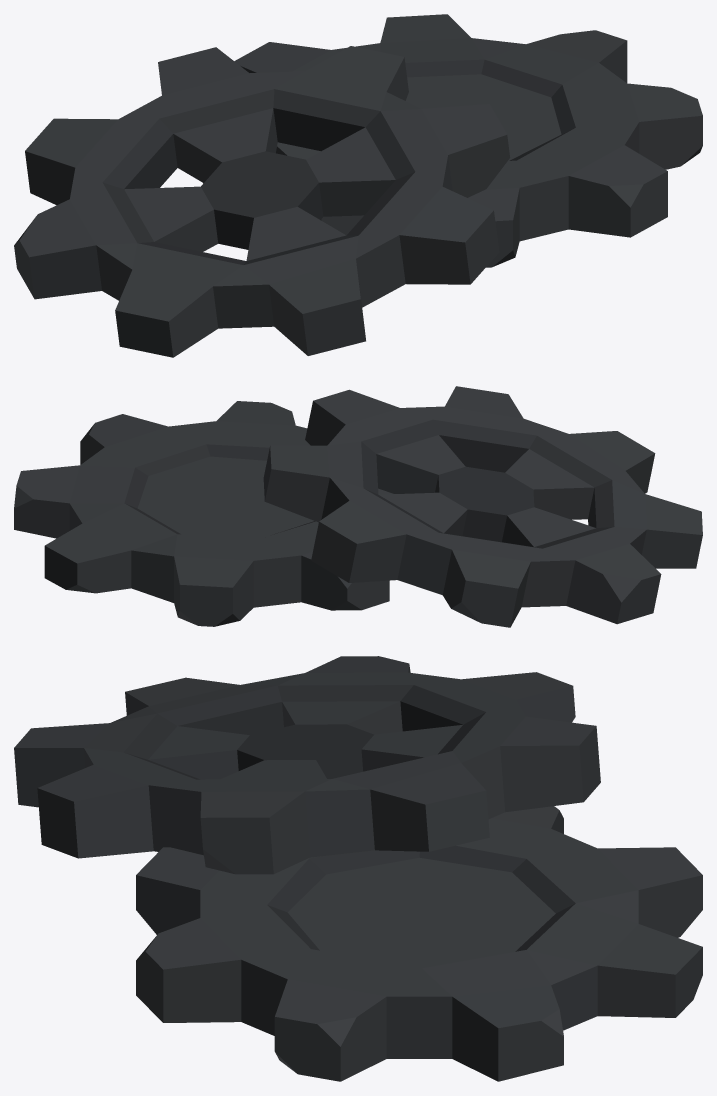
The model's file is forge_cog_pile.gltf.
3 renders of one model, top to bottom at view 1: azimuth 30°, elevation 25°; view 2: azimuth 150°, elevation 25°; view 3: azimuth 270°, elevation 25°, orthographic. The views are drawn at different scales.
Parts seen in each view (by area): view 1: forge_cog_pile; view 2: forge_cog_pile; view 3: forge_cog_pile.
Boxes of the visible parts, x1,y1,x2,y2 form: forge_cog_pile: (14,14,702,357); forge_cog_pile: (14,386,702,627); forge_cog_pile: (14,656,702,1081).
Size of the model in its own units: 1.54 by 0.2683 by 1.19.
1 material, 1 textured.
